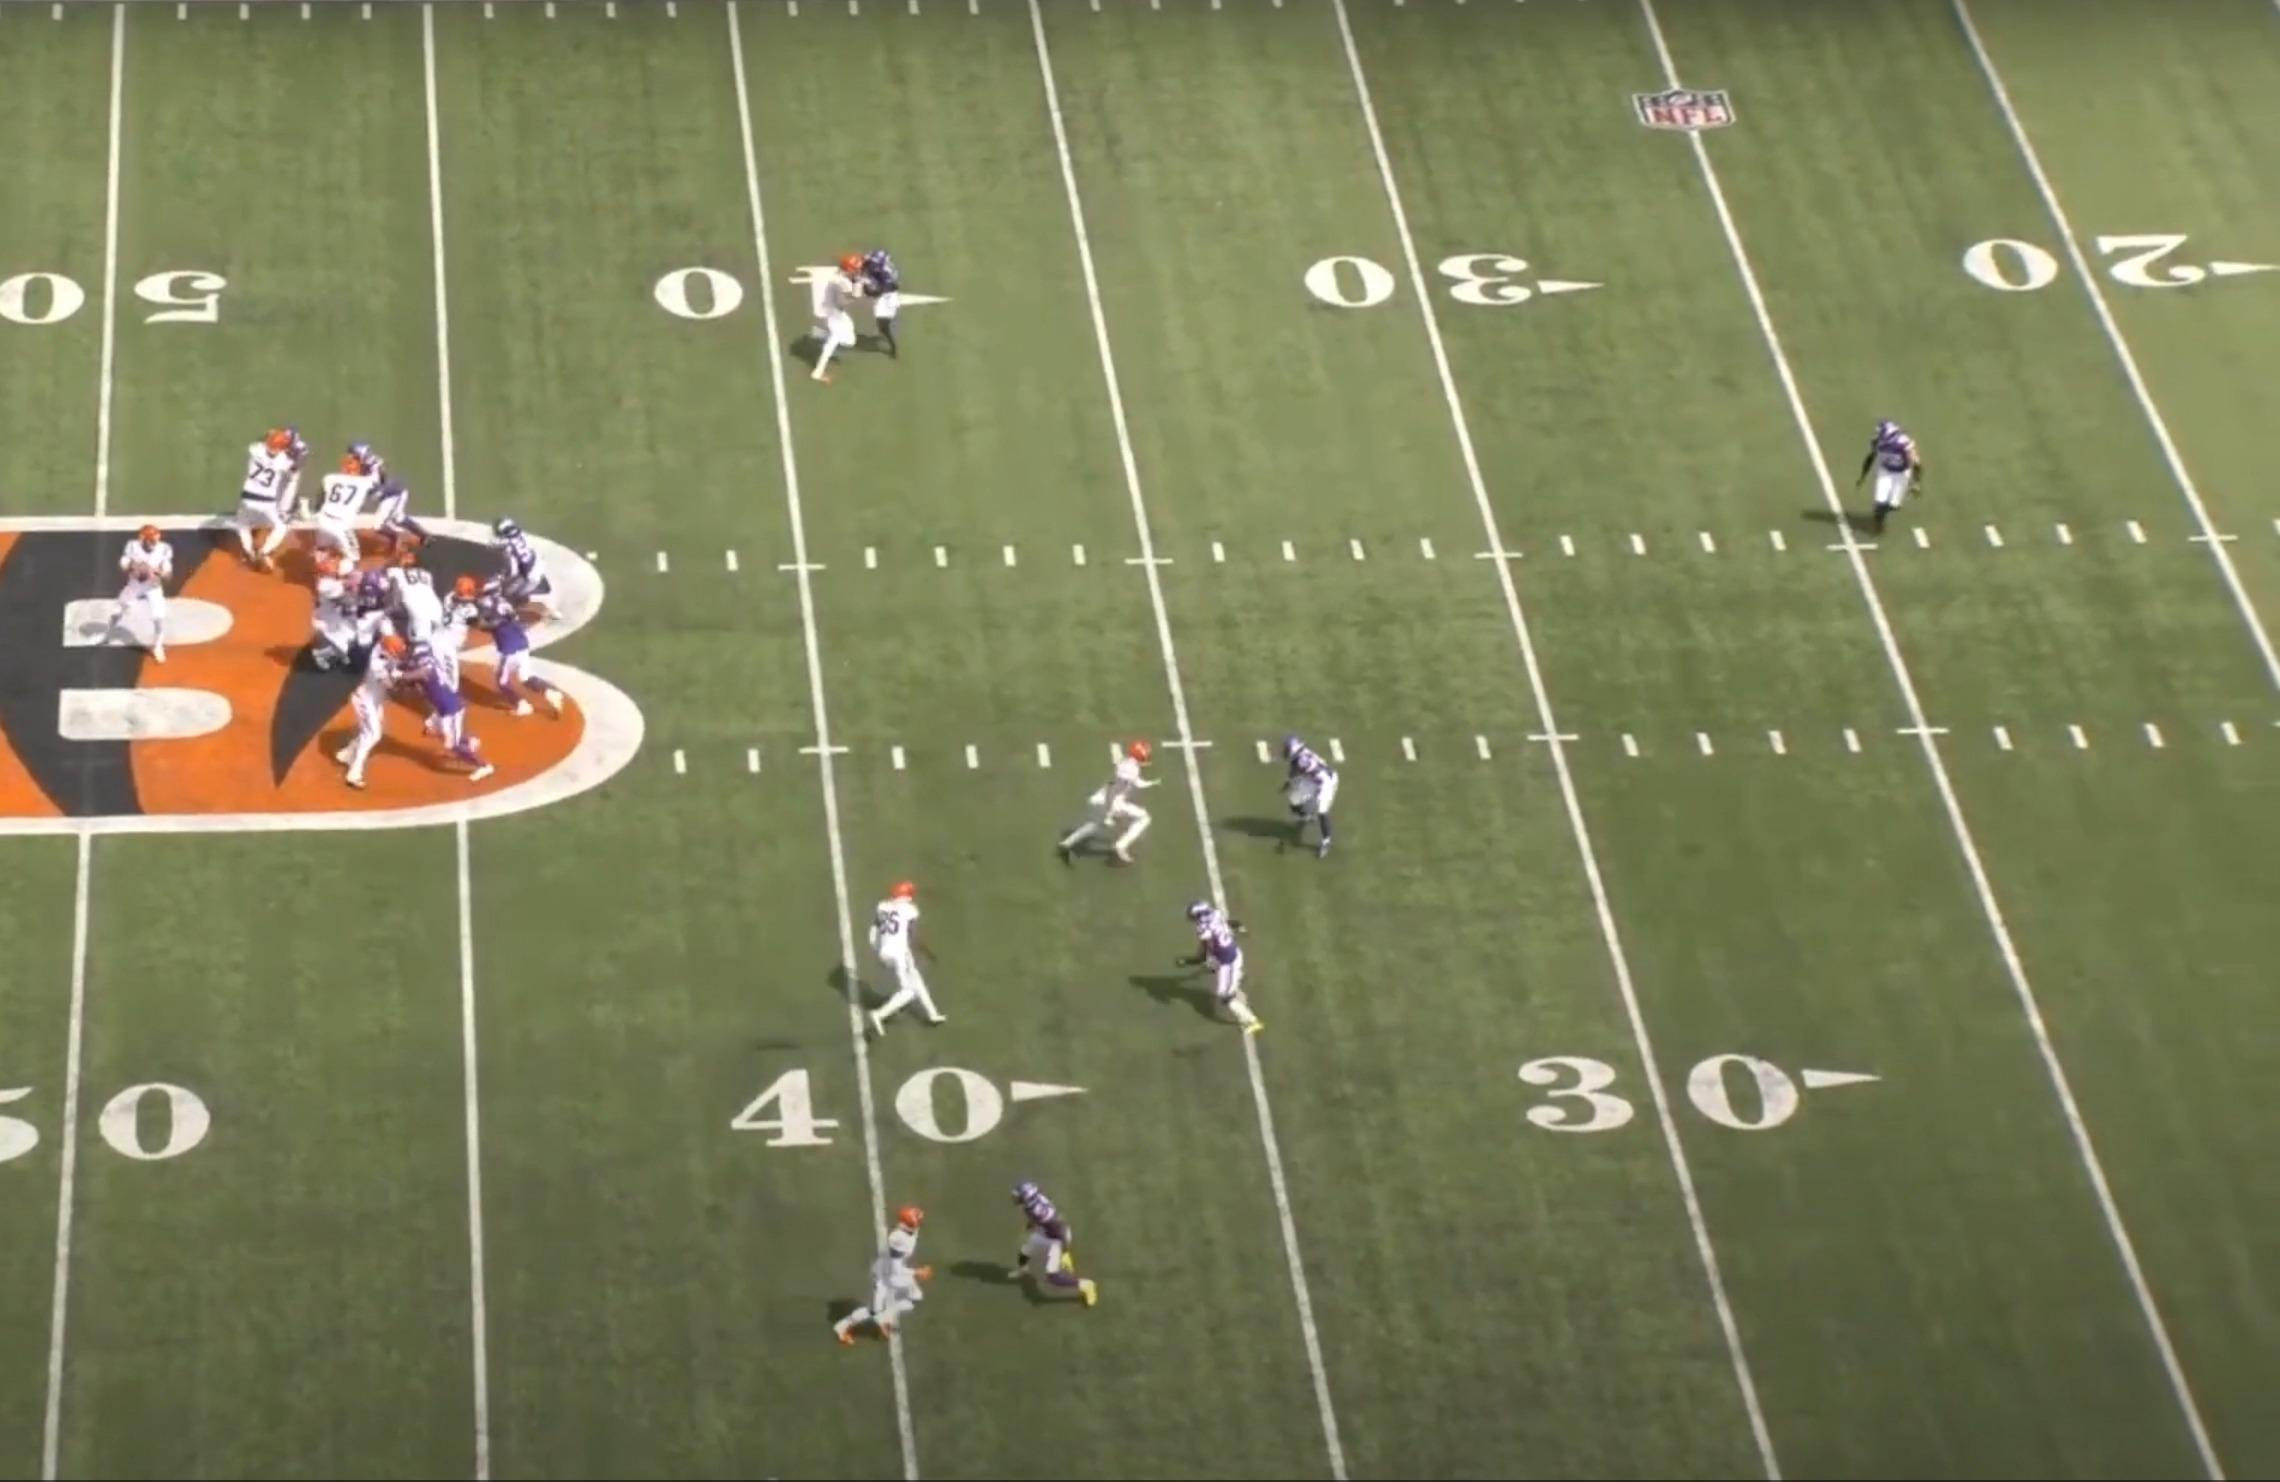player: (830, 1202, 946, 1363), (998, 1168, 1102, 1321), (1061, 737, 1172, 879), (859, 874, 948, 1047), (1172, 892, 1270, 1042), (479, 573, 564, 729), (113, 528, 184, 700), (333, 628, 410, 786), (412, 641, 497, 782), (1266, 724, 1348, 865), (796, 253, 875, 389), (346, 443, 439, 558), (1853, 415, 1929, 551), (240, 428, 305, 569), (849, 249, 917, 375), (315, 456, 377, 589), (493, 513, 554, 642), (300, 560, 358, 673), (430, 572, 485, 687), (352, 569, 408, 657), (388, 554, 444, 638), (273, 423, 314, 520)
